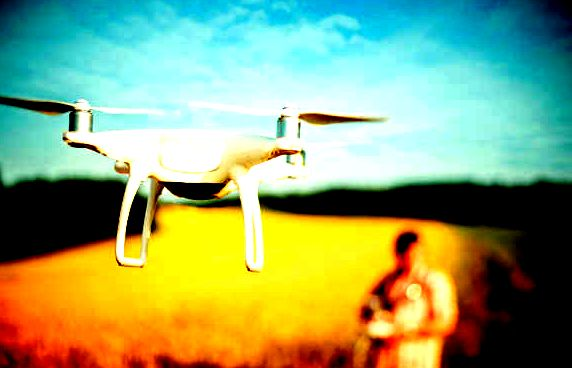Drone: (0, 85, 390, 278)
